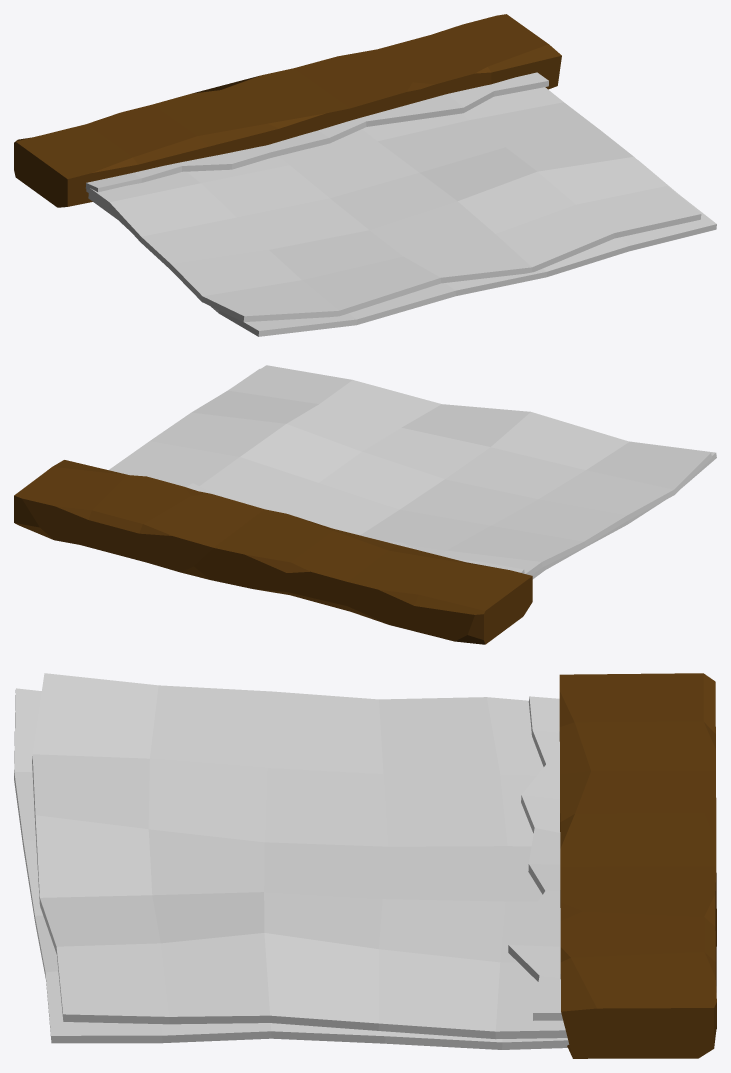
Rendered from BPW2_Calander.fbx.
3 renders of one model, top to bottom at view 1: azimuth 30°, elevation 25°; view 2: azimuth 150°, elevation 25°; view 3: azimuth 270°, elevation 25°, orthographic. The views are drawn at different scales.
Parts seen in each view (by area): view 1: Plane.001, Pillar4, Plane, Plane.002; view 2: Plane.001, Pillar4, Plane, Plane.002; view 3: Plane.001, Pillar4, Plane, Plane.002.
Part boxes in pixels (x1=…): Plane.001: x1=86, y1=87, x2=701, y2=321; Pillar4: x1=14, y1=14, x2=561, y2=207; Plane: x1=88, y1=160, x2=716, y2=336; Plane.002: x1=85, y1=72, x2=548, y2=192; Plane.001: x1=108, y1=365, x2=711, y2=575; Pillar4: x1=14, y1=460, x2=532, y2=644; Plane: x1=238, y1=369, x2=716, y2=579; Plane.002: x1=171, y1=483, x2=524, y2=573; Plane.001: x1=32, y1=673, x2=567, y2=1039; Pillar4: x1=559, y1=673, x2=716, y2=1058; Plane: x1=14, y1=688, x2=569, y2=1049; Plane.002: x1=508, y1=696, x2=562, y2=1020.
Size of the model in its own units: 283 by 23.08 by 243.
